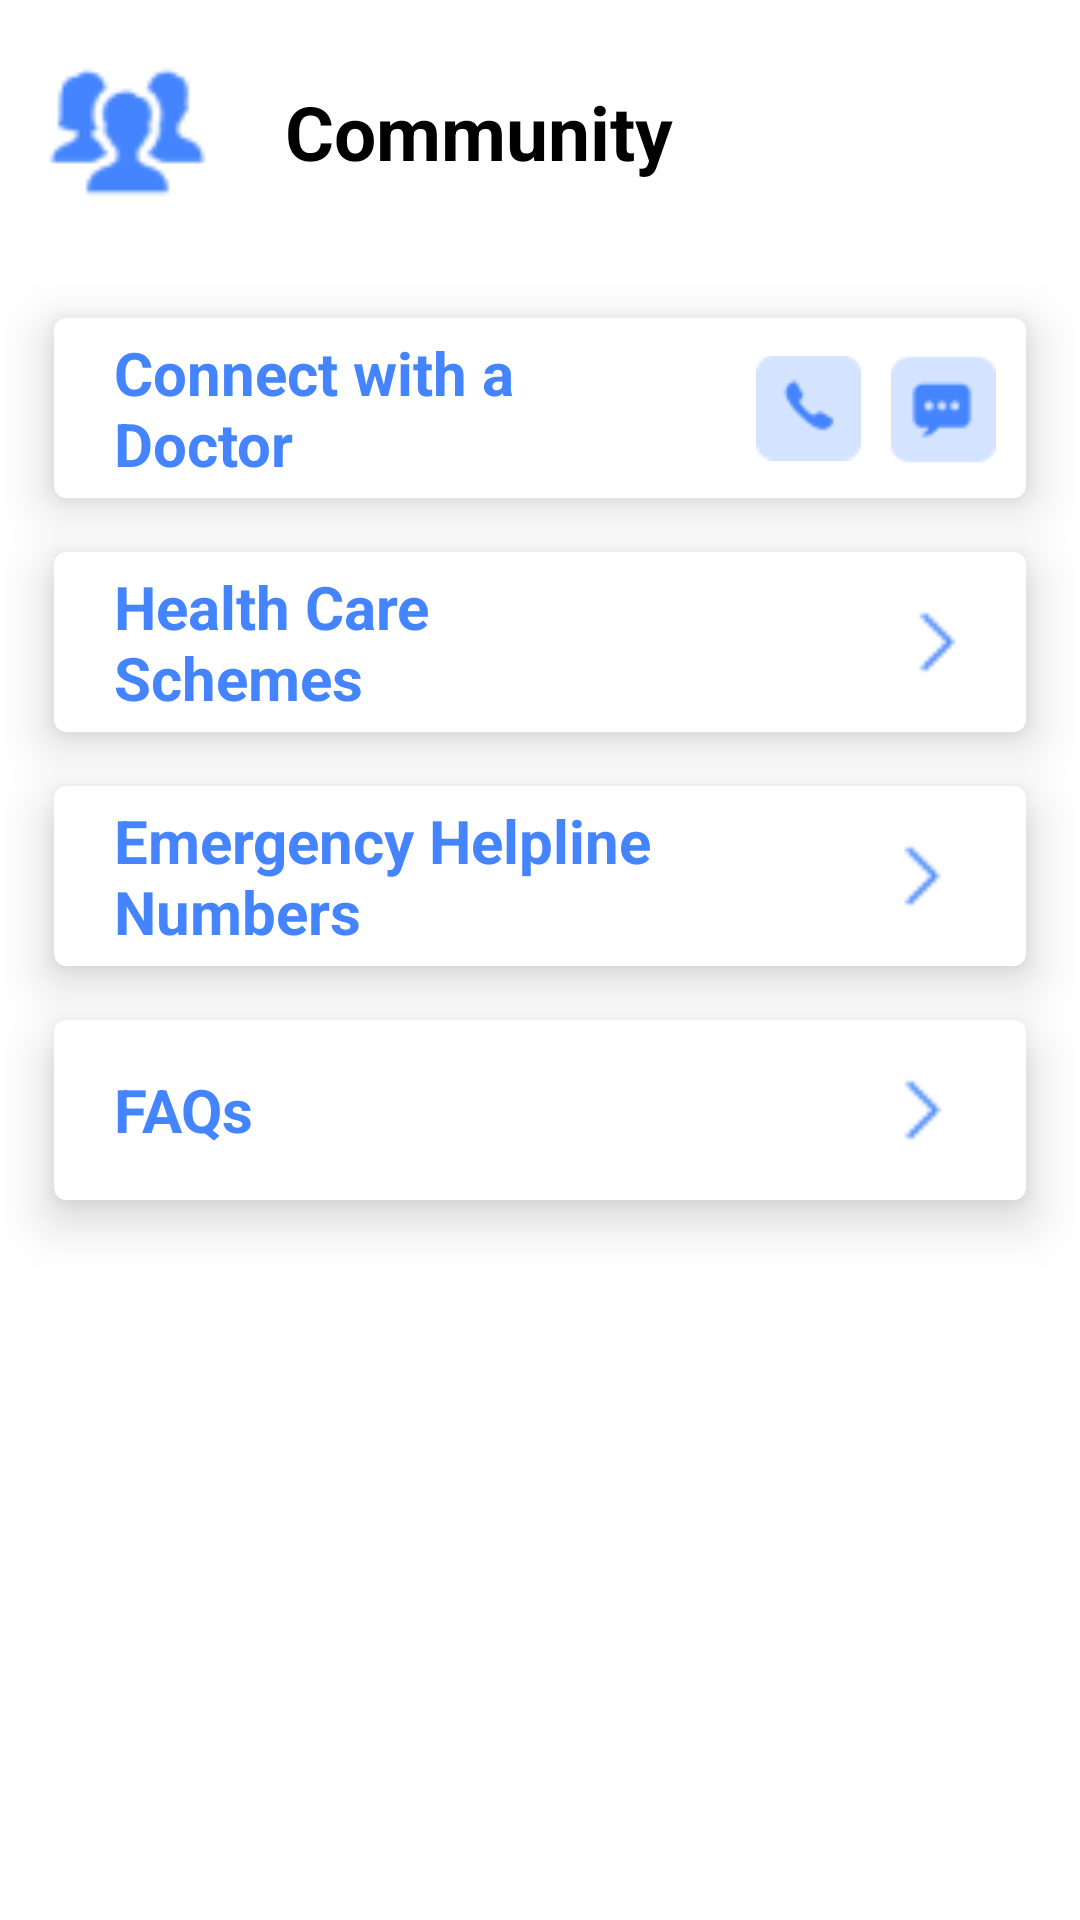

Icons on this 1080w x 1920h Android screen, each with its box as Rect(x1, y1, x2, y2):
arrow expand: Rect(919, 613, 956, 672), Rect(904, 847, 941, 906), Rect(905, 1081, 941, 1140)
call: Rect(756, 356, 861, 461)
message: Rect(891, 357, 996, 462)
